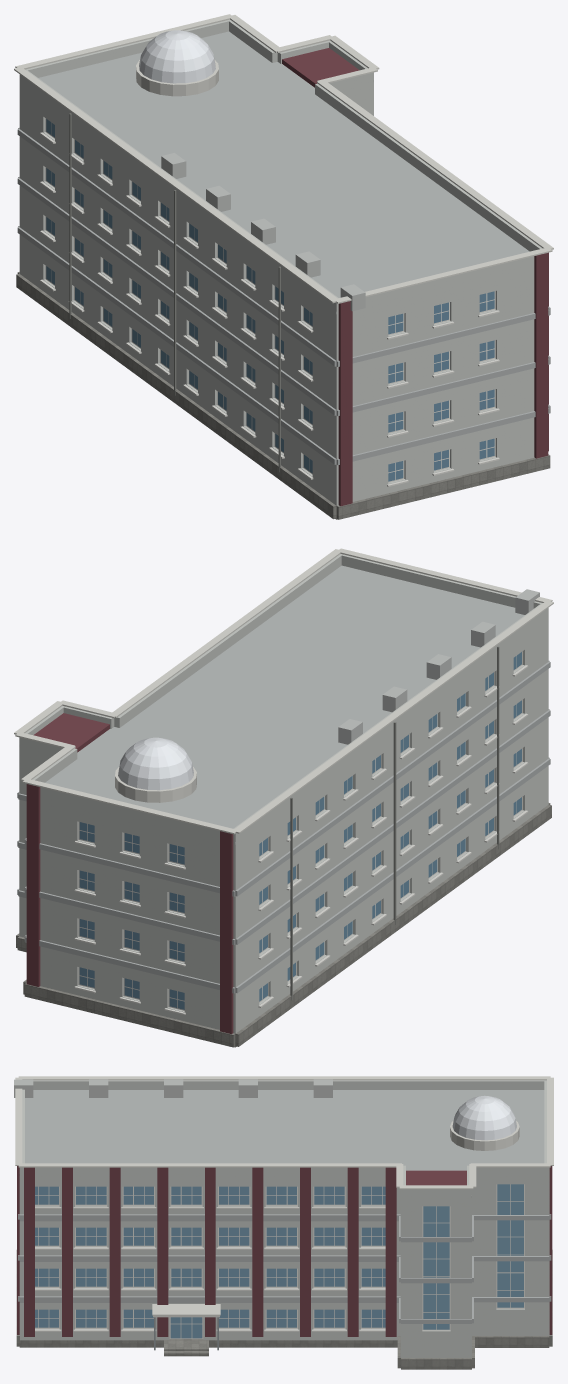
3 views of the same model, one above another, from view 1: azimuth 30°, elevation 25°; view 2: azimuth 150°, elevation 25°; view 3: azimuth 270°, elevation 25° (orthographic). The views are drawn at different scales.
Visible parts, largest first — view 1: west__wall, west__roofpale, west__band, west__cap, west__stone, west__sideglass, west__maroon, west__white, west__dome, west__frame, west__unit, west__pipe; view 2: west__wall, west__roofpale, west__band, west__cap, west__stone, west__sideglass, west__maroon, west__white, west__dome, west__frame, west__unit, west__pipe; view 3: west__wall, west__roofpale, west__maroon, west__glass, west__band, west__cap, west__frame, west__stairglass, west__stone, west__white, west__dome, west__unit (+2 smaller).
Boxes of the visible parts, left/top/right/bottom form: west__wall: left=19, top=19, right=542, bottom=505; west__roofpale: left=38, top=31, right=529, bottom=313; west__band: left=17, top=127, right=550, bottom=465; west__cap: left=14, top=14, right=553, bottom=303; west__stone: left=16, top=272, right=550, bottom=519; west__sideglass: left=46, top=119, right=494, bottom=481; west__maroon: left=282, top=48, right=548, bottom=506; west__white: left=40, top=132, right=499, bottom=486; west__dome: left=139, top=30, right=215, bottom=83; west__frame: left=45, top=118, right=495, bottom=482; west__unit: left=161, top=153, right=365, bottom=311; west__pipe: left=69, top=113, right=280, bottom=472; west__wall: left=19, top=554, right=548, bottom=1033; west__roofpale: left=19, top=565, right=524, bottom=844; west__band: left=17, top=660, right=550, bottom=993; west__cap: left=14, top=548, right=553, bottom=834; west__stone: left=16, top=803, right=551, bottom=1047; west__sideglass: left=79, top=652, right=521, bottom=1009; west__maroon: left=26, top=713, right=233, bottom=1034; west__white: left=74, top=665, right=528, bottom=1014; west__dome: left=118, top=737, right=193, bottom=790; west__frame: left=78, top=651, right=522, bottom=1010; west__unit: left=338, top=589, right=539, bottom=744; west__pipe: left=290, top=646, right=499, bottom=1000; west__wall: left=19, top=1080, right=549, bottom=1357; west__roofpale: left=19, top=1090, right=544, bottom=1197; west__maroon: left=17, top=1166, right=552, bottom=1336; west__glass: left=35, top=1186, right=385, bottom=1338; west__band: left=18, top=1214, right=551, bottom=1323; west__cap: left=15, top=1076, right=553, bottom=1315; west__frame: left=35, top=1184, right=524, bottom=1338; west__stairglass: left=423, top=1184, right=523, bottom=1329; west__stone: left=16, top=1250, right=552, bottom=1369; west__white: left=35, top=1207, right=385, bottom=1331; west__dome: left=452, top=1095, right=516, bottom=1140; west__unit: left=14, top=1079, right=332, bottom=1097.
Bounding box in the file's own units: 20.51 × 18.06 × 41.81.
15 materials, 5 textured.
